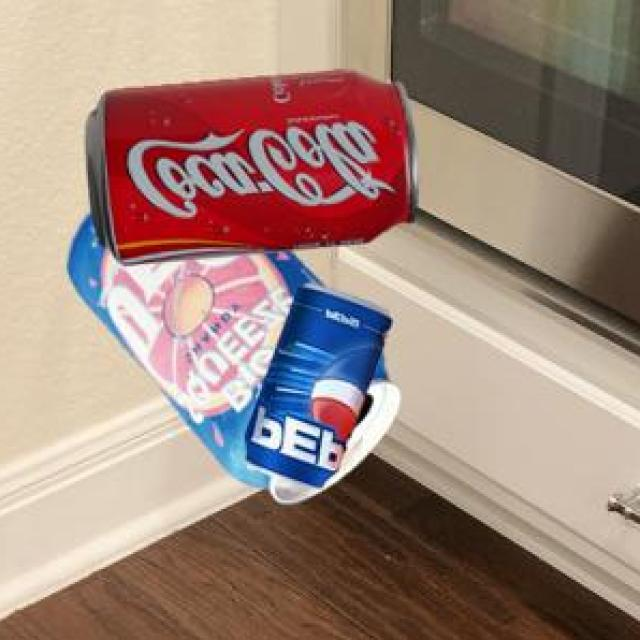logam: (70, 207, 403, 499), (89, 68, 420, 261), (248, 280, 394, 484)
